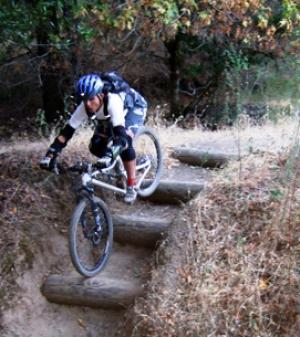person: (40, 71, 148, 204)
